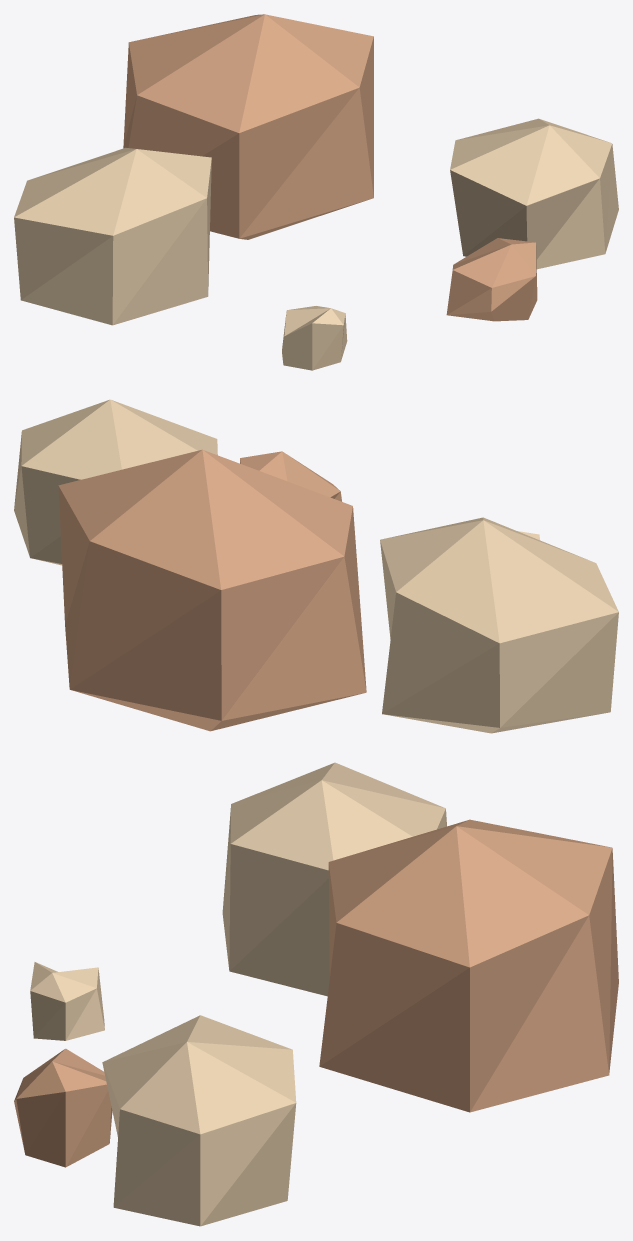
3 views of the same model, one above another, from view 1: azimuth 30°, elevation 25°; view 2: azimuth 150°, elevation 25°; view 3: azimuth 270°, elevation 25° (orthographic). The views are drawn at different scales.
Bounding box in the file's own units: 6.13 × 2.4 × 4.49.
